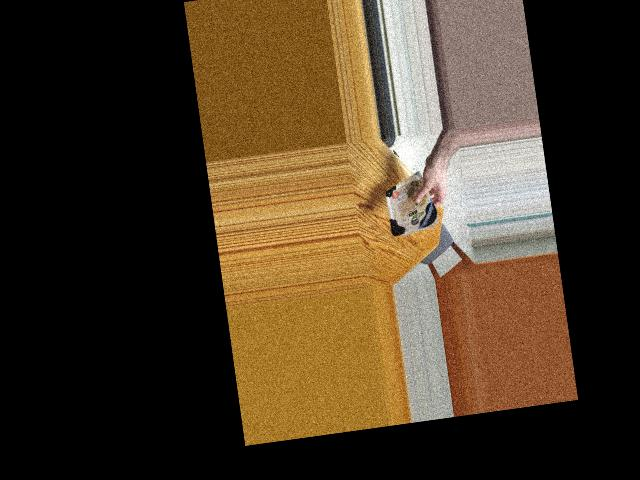cheese: (388, 175, 432, 237)
